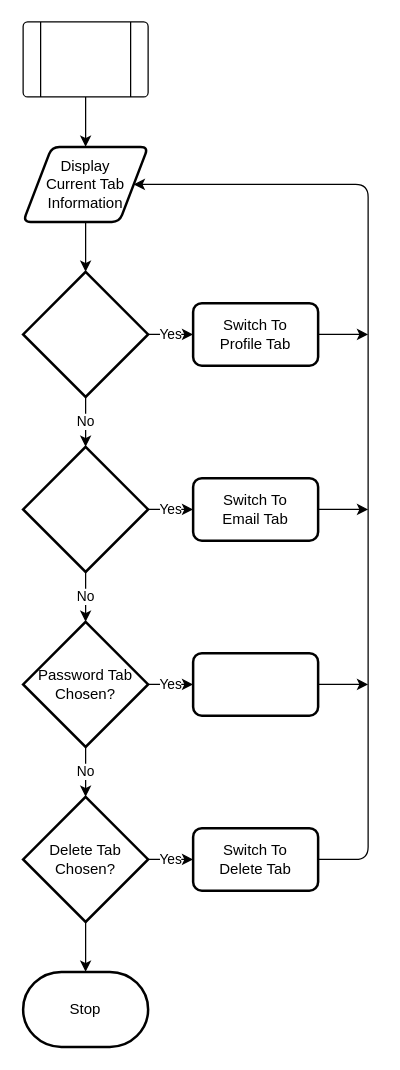
Some shapes in this 400 by 1070 pixel diagram are drawn without their labels. The shapes that lost their labels are listed below. From the top down, each one's box as (x1, y1, x2, y2) in pixels, then its label:
(22, 21, 148, 97): Account Page
(21, 270, 149, 398): Profile Tab Chosen?
(21, 445, 149, 572): Email Tab Chosen?
(191, 651, 319, 716): Switch To Password Tab
